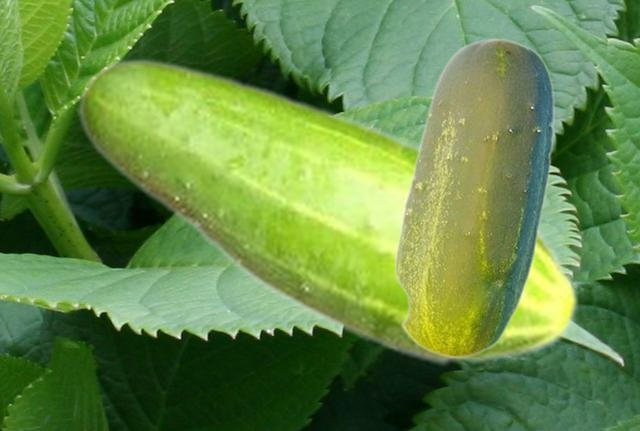cucumber: (77, 57, 580, 367), (393, 37, 553, 358)
